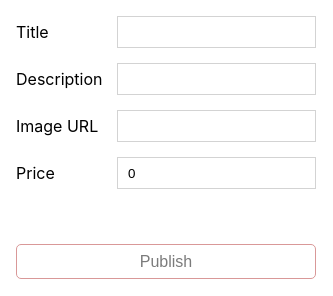
Test case: RentalForm › should show values that user has typed
Type "Entire flat" into the field labelled "Title". click: (216, 32)
box: left=117, top=16, right=316, bottom=48
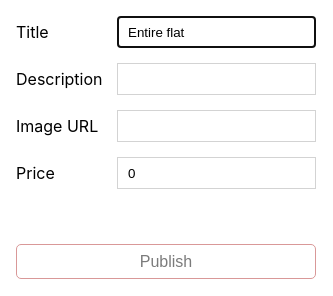
Type "2 bedroom" into the field labelled "Description". click: (216, 79)
box: left=117, top=63, right=316, bottom=95
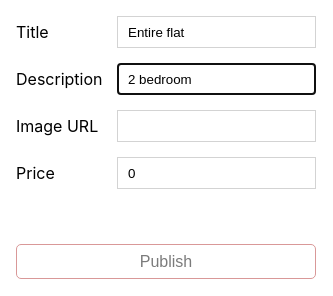
Type "https://www.aproperties.es/thumb?src=/media/properties/28851/28851_16206456867376.jpg&w=640&h=480" into the field labelled "Image URL". click: (216, 126)
box: left=117, top=110, right=316, bottom=142
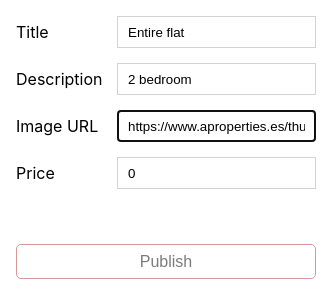
Type "90" into the number field labelled "Price". click: (216, 173)
box: left=117, top=157, right=316, bottom=189
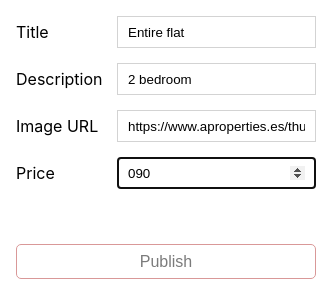
Expected: the number field labelled "Price" holds "90", left=117, top=157, right=316, bottom=189
